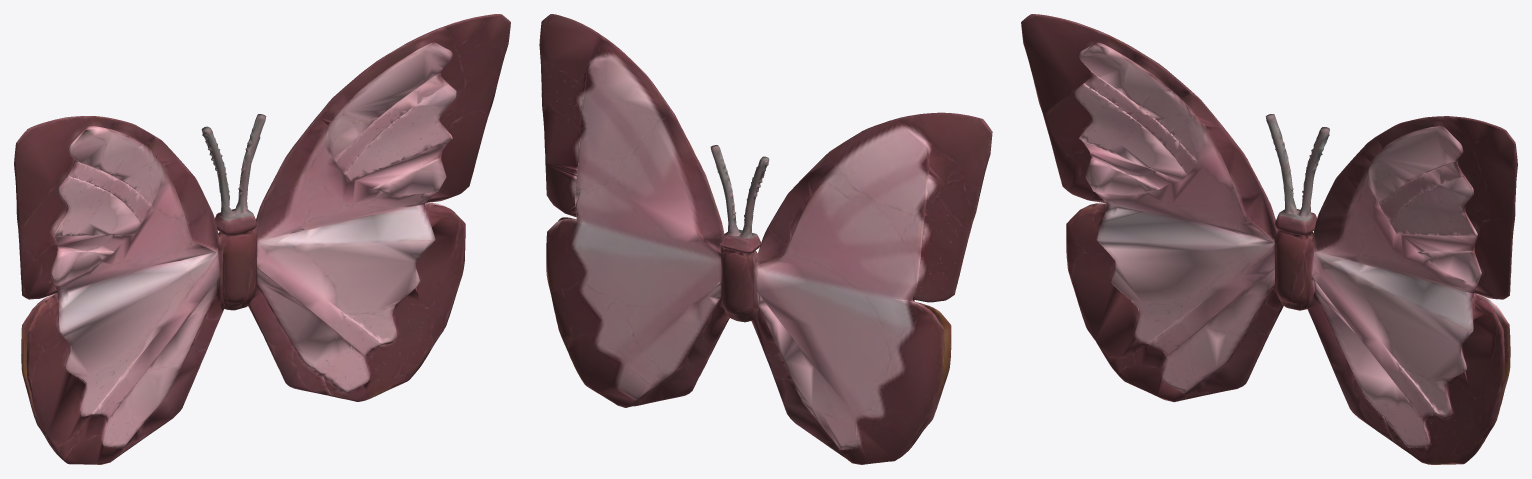
Rendered from pinkbutterfly.glb.
3 renders of one model, left to right at view 1: azimuth 30°, elevation 25°; view 2: azimuth 150°, elevation 25°; view 3: azimuth 330°, elevation 25°, orthographic. The views are drawn at different scales.
Visible parts, largest first — view 1: node_0; view 2: node_0; view 3: node_0.
Boxes of the visible parts, x1,y1,x2,y2 form: node_0: (14,14,510,464); node_0: (539,14,992,464); node_0: (1021,14,1517,464).
Size of the model in its own units: 0.98 by 0.7266 by 0.1293.
Materials: 1 (1 with a texture image).
